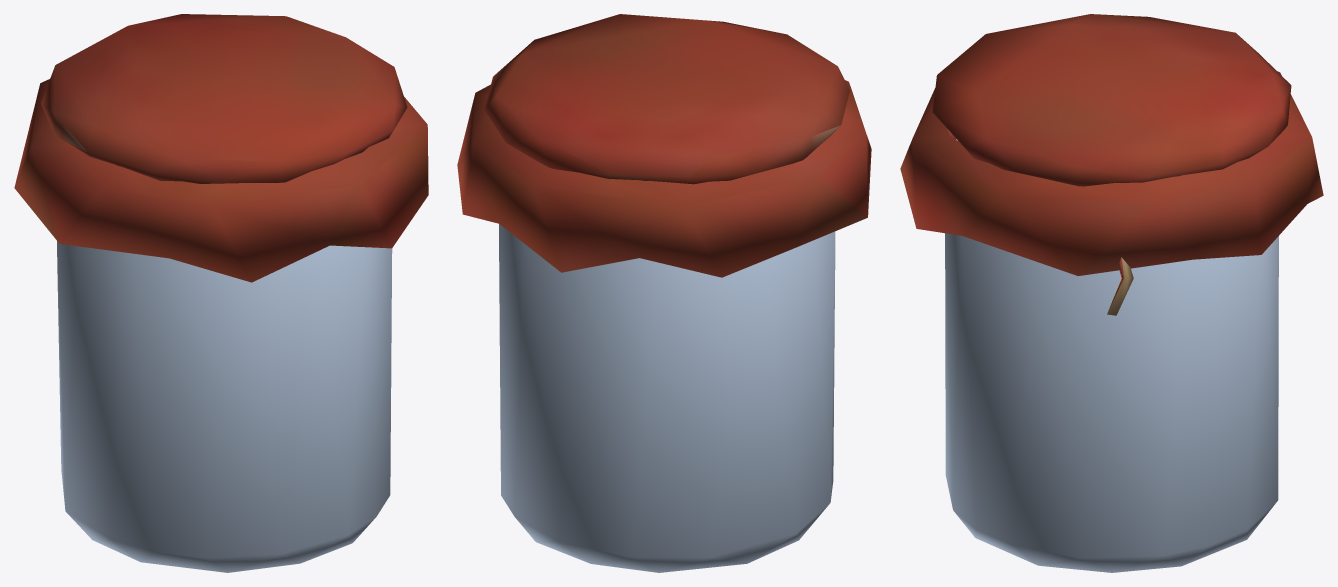
Rendered from pellet_jar_mix.glb.
The picture shows the model from 3 angles, left to right: view 1: azimuth 30°, elevation 25°; view 2: azimuth 150°, elevation 25°; view 3: azimuth 270°, elevation 25°; orthographic projection.
Visible parts, largest first — view 1: prop_pellet_jar_mix_glass, prop_pellet_jar_mix_felt; view 2: prop_pellet_jar_mix_glass, prop_pellet_jar_mix_felt; view 3: prop_pellet_jar_mix_glass, prop_pellet_jar_mix_felt.
Part boxes in pixels (left/top/right/bottom): prop_pellet_jar_mix_glass: left=57, top=241, right=392, bottom=572; prop_pellet_jar_mix_felt: left=14, top=14, right=428, bottom=282; prop_pellet_jar_mix_glass: left=499, top=224, right=835, bottom=572; prop_pellet_jar_mix_felt: left=457, top=14, right=871, bottom=277; prop_pellet_jar_mix_glass: left=945, top=233, right=1278, bottom=572; prop_pellet_jar_mix_felt: left=900, top=14, right=1323, bottom=315.
Bounding box in the file's own units: 0.2344 × 0.257 × 0.228.
Materials: 2 (1 with a texture image).
